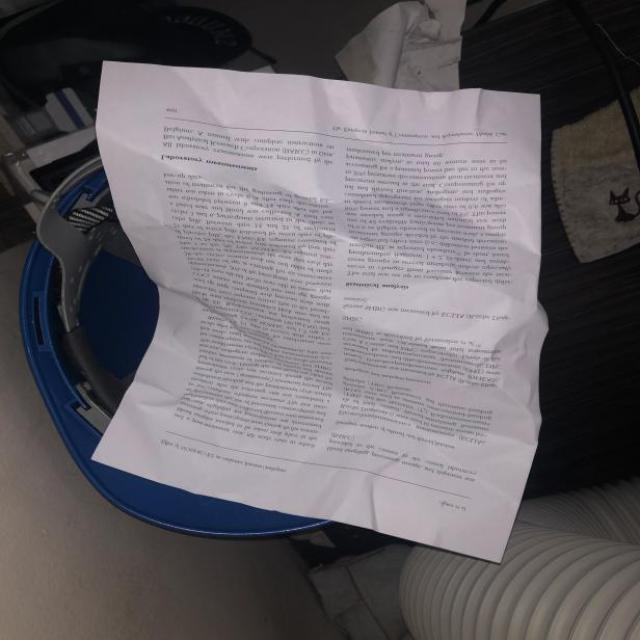kertas: (66, 61, 565, 564)
